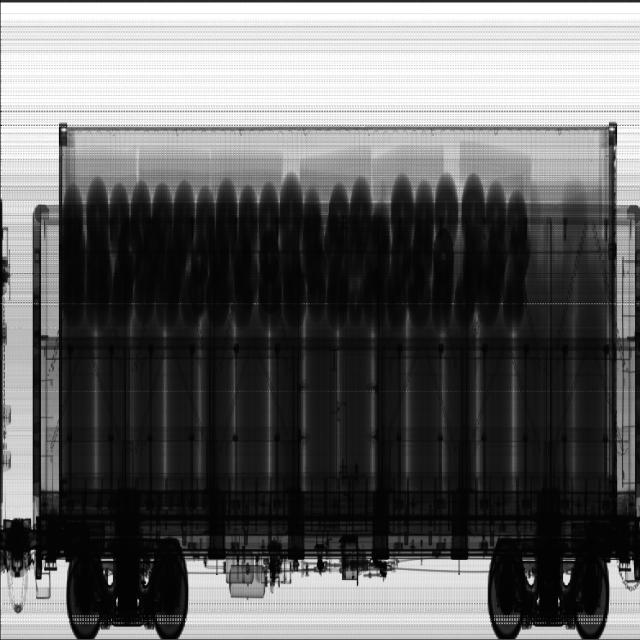fabrics: (57, 170, 536, 327)
